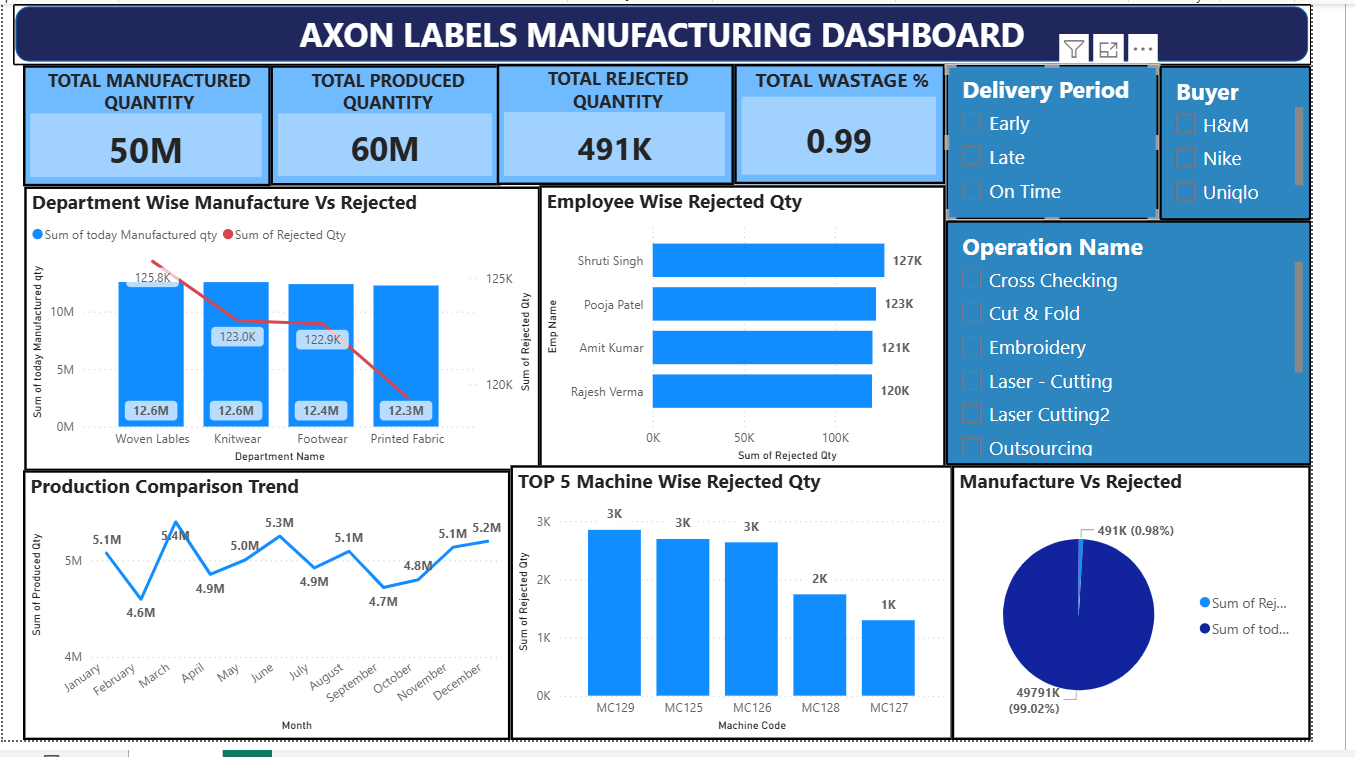

The dashboard page shown, as its layout file describes it:
{"tool":"powerbi","page":{"name":"Page 1","canvas":[1280,720],"ordinal":0},"visuals":[{"type":"shape","box":[9.8,0,1270.5,59.9],"z":0},{"type":"cardVisual","title":"TOTAL MANUFACTURED QUANTITY","fields":{"Data":["Sum(Manufacturing_data.today Manufactured qty)"]},"box":[19.6,59.9,242.1,118.6],"z":1000},{"type":"cardVisual","title":"TOTAL PRODUCED QUANTITY","fields":{"Data":["Sum(Manufacturing_data.Produced Qty)"]},"box":[261.7,59.9,225,117.4],"z":2000},{"type":"cardVisual","title":"TOTAL REJECTED QUANTITY","fields":{"Data":["Sum(Manufacturing_data.Rejected Qty)"]},"box":[483,58.7,232.3,118.6],"z":3000},{"type":"cardVisual","title":"TOTAL WASTAGE %","fields":{"Data":["Manufacturing_data.Total wastage"]},"box":[715.4,58.7,206.7,117.4],"z":4000},{"type":"slicer","fields":{"Values":["Manufacturing_data.Delivery Period"]},"box":[922,58.7,209.1,152.9],"z":4001},{"type":"slicer","fields":{"Values":["Manufacturing_data.Operation Name"]},"box":[922,211.6,358.3,239.7],"z":4002},{"type":"slicer","fields":{"Values":["Manufacturing_data.Buyer"]},"box":[1131.1,59.9,149.2,151.6],"z":4003},{"type":"lineStackedColumnComboChart","title":"Department Wise Manufacture Vs Rejected","fields":{"Category":["Manufacturing_data.Department Name"],"Y":["Sum(Manufacturing_data.today Manufactured qty)"],"Y2":["Sum(Manufacturing_data.Rejected Qty)"]},"box":[20.2,178.9,505,278.5],"z":4004},{"type":"barChart","title":"Employee Wise Rejected Qty","fields":{"Category":["Manufacturing_data.Emp Name"],"Y":["Sum(Manufacturing_data.Rejected Qty)"]},"box":[524.6,177.3,397.4,278.8],"z":4005},{"type":"lineChart","title":"Production Comparison Trend","fields":{"Category":["Manufacturing_data.Doc Date.Variation.Date Hierarchy.Month"],"Y":["Sum(Manufacturing_data.Produced Qty)"]},"box":[19.6,456.1,476.9,264.1],"z":4006},{"type":"lineStackedColumnComboChart","title":"TOP 5 Machine Wise Rejected Qty","fields":{"Category":["Manufacturing_data.Machine Code"],"Y":["Sum(Manufacturing_data.Rejected Qty)"]},"box":[496.5,451.2,432.9,269],"z":4007},{"type":"pieChart","title":"Manufacture Vs Rejected","fields":{"Y":["Sum(Manufacturing_data.Rejected Qty)","Sum(Manufacturing_data.today Manufactured qty)"]},"box":[928.1,451.2,351,269],"z":4008}]}

Visuals, with their boxes in screenshot pixels (x1, y1, x2, y2), scaled from the page's 1280x720 canvas onto the 1355x757 screenshot:
shape: {"left": 10, "top": 0, "right": 1354, "bottom": 63}
"TOTAL MANUFACTURED QUANTITY" cardVisual: {"left": 21, "top": 63, "right": 277, "bottom": 188}
"TOTAL PRODUCED QUANTITY" cardVisual: {"left": 277, "top": 63, "right": 515, "bottom": 186}
"TOTAL REJECTED QUANTITY" cardVisual: {"left": 511, "top": 62, "right": 757, "bottom": 186}
"TOTAL WASTAGE %" cardVisual: {"left": 757, "top": 62, "right": 976, "bottom": 185}
slicer - Manufacturing_data.Delivery Period: {"left": 976, "top": 62, "right": 1197, "bottom": 222}
slicer - Manufacturing_data.Operation Name: {"left": 976, "top": 222, "right": 1354, "bottom": 474}
slicer - Manufacturing_data.Buyer: {"left": 1197, "top": 63, "right": 1354, "bottom": 222}
"Department Wise Manufacture Vs Rejected" lineStackedColumnComboChart: {"left": 21, "top": 188, "right": 556, "bottom": 481}
"Employee Wise Rejected Qty" barChart: {"left": 555, "top": 186, "right": 976, "bottom": 480}
"Production Comparison Trend" lineChart: {"left": 21, "top": 480, "right": 526, "bottom": 756}
"TOP 5 Machine Wise Rejected Qty" lineStackedColumnComboChart: {"left": 526, "top": 474, "right": 984, "bottom": 756}
"Manufacture Vs Rejected" pieChart: {"left": 982, "top": 474, "right": 1354, "bottom": 756}
